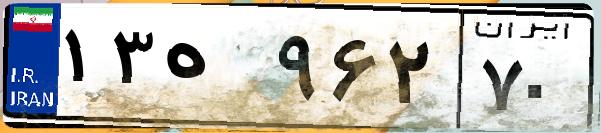0: (525, 38, 570, 115)
1: (57, 26, 110, 100)
2: (385, 28, 445, 110)
3: (110, 28, 158, 98)
6: (330, 28, 385, 110)
7: (475, 38, 525, 113)
9: (270, 28, 330, 110)
ه: (158, 20, 270, 120)
